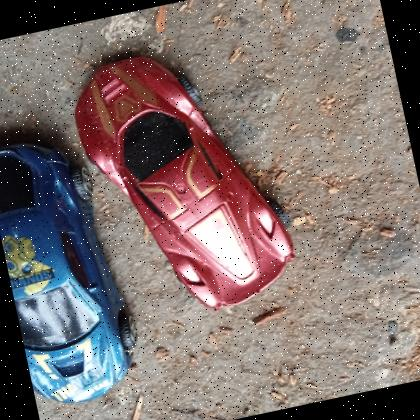Car: (75, 56, 296, 311), (0, 144, 131, 405)
